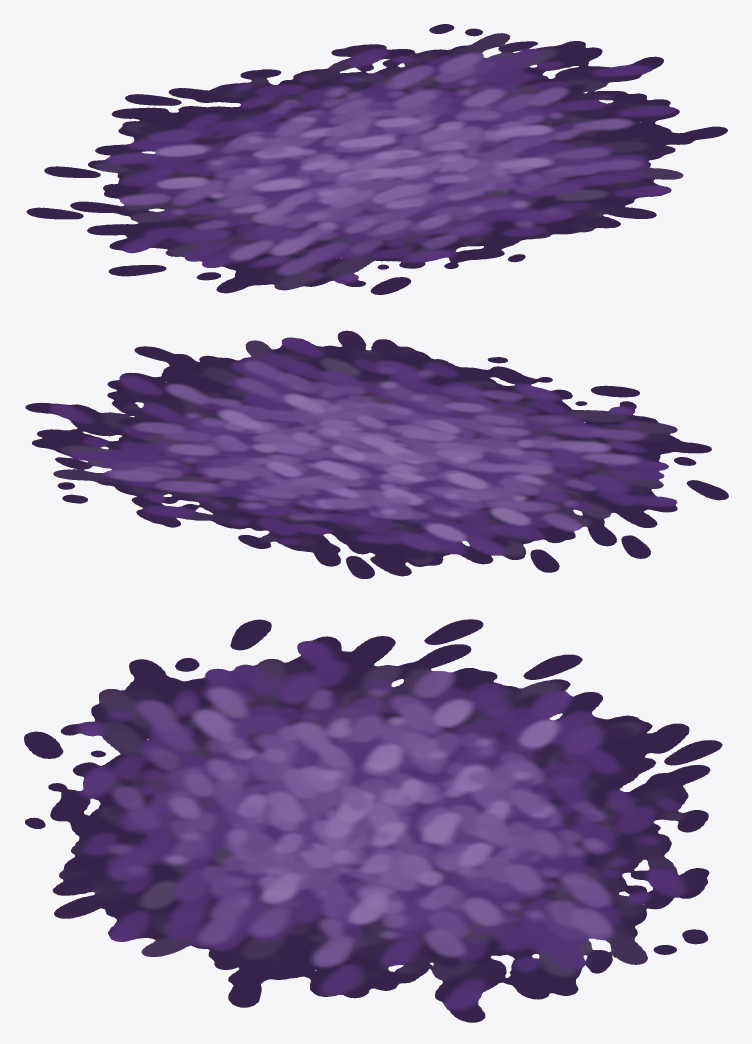
The model's file is painted-bush-040.glb.
3 views of the same model, one above another, from view 1: azimuth 30°, elevation 25°; view 2: azimuth 150°, elevation 25°; view 3: azimuth 270°, elevation 25° (orthographic). The views are drawn at different scales.
Bounding box in the file's own units: 9.84 × 0 × 7.24.
1 material, 1 textured.
